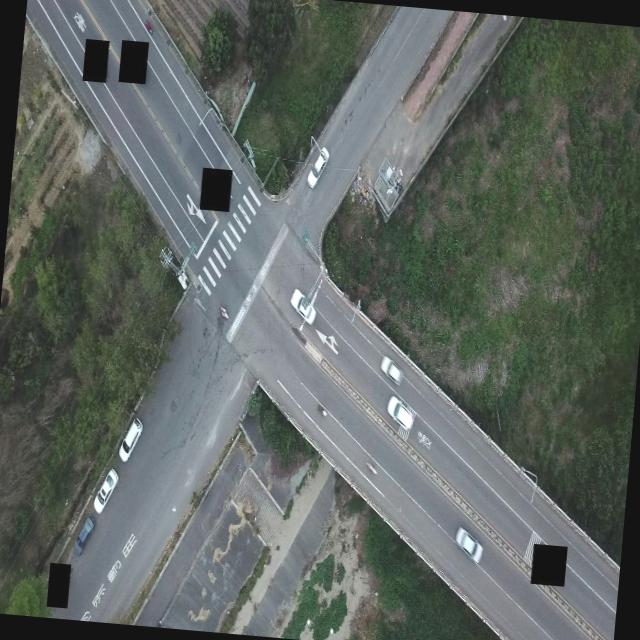bike: (218, 302, 232, 322), (314, 402, 328, 418), (365, 459, 378, 475)
car: (92, 466, 119, 515), (286, 280, 317, 322), (452, 525, 485, 564), (118, 414, 144, 463), (384, 394, 416, 432), (72, 512, 96, 557), (306, 144, 330, 189), (378, 354, 404, 386)
